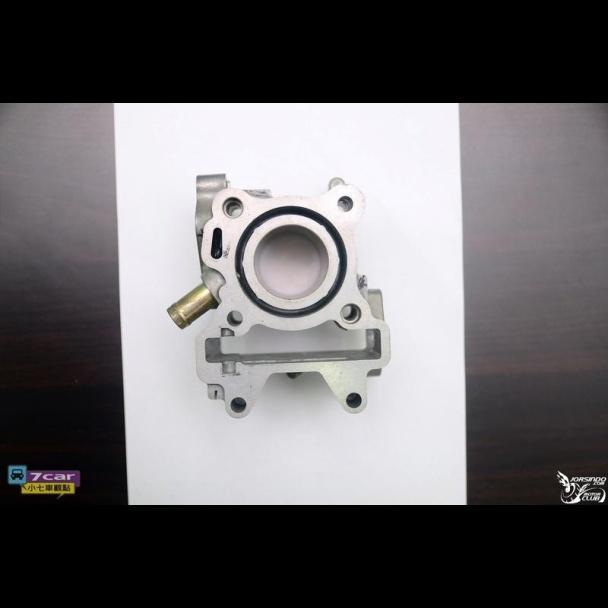hole: (220, 193, 245, 218), (338, 301, 364, 324), (344, 390, 364, 410), (335, 194, 355, 212), (225, 308, 243, 327), (230, 396, 248, 413)
